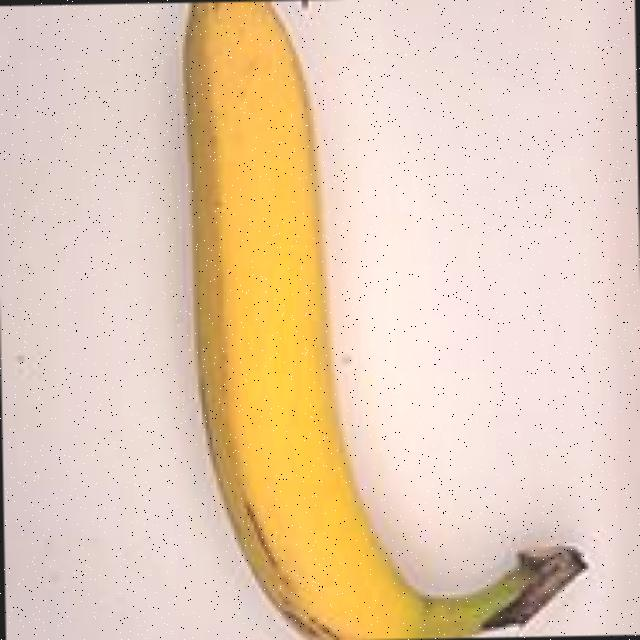Ripe: (107, 0, 615, 640)
